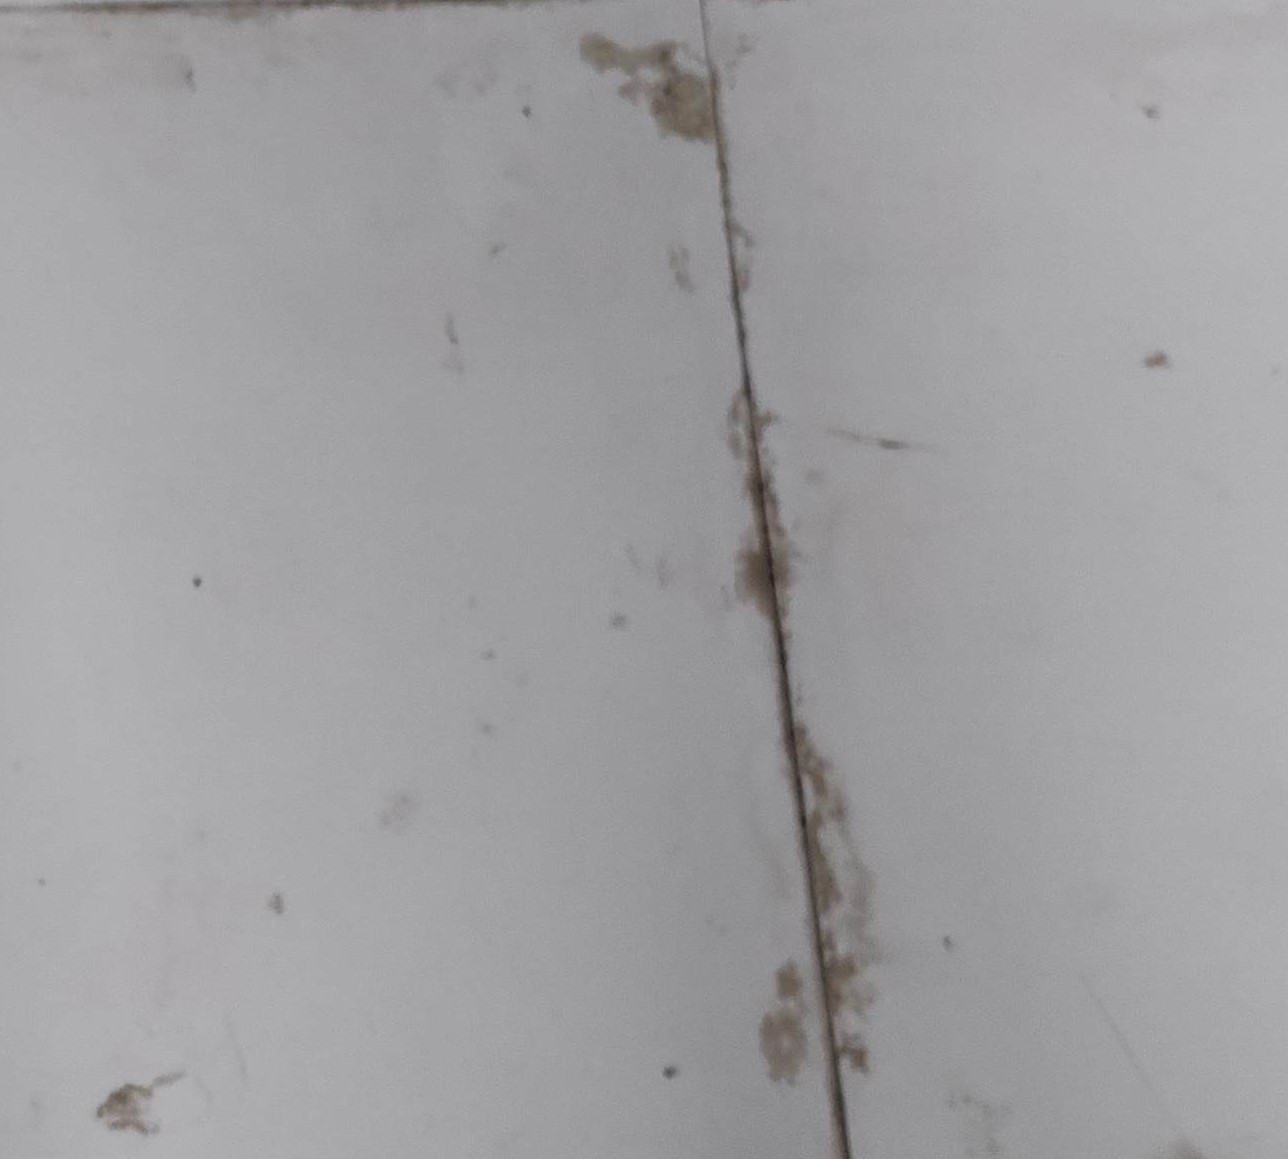grey spot: (786, 719, 874, 1074), (726, 397, 799, 626), (576, 30, 726, 141), (755, 959, 809, 1095)
